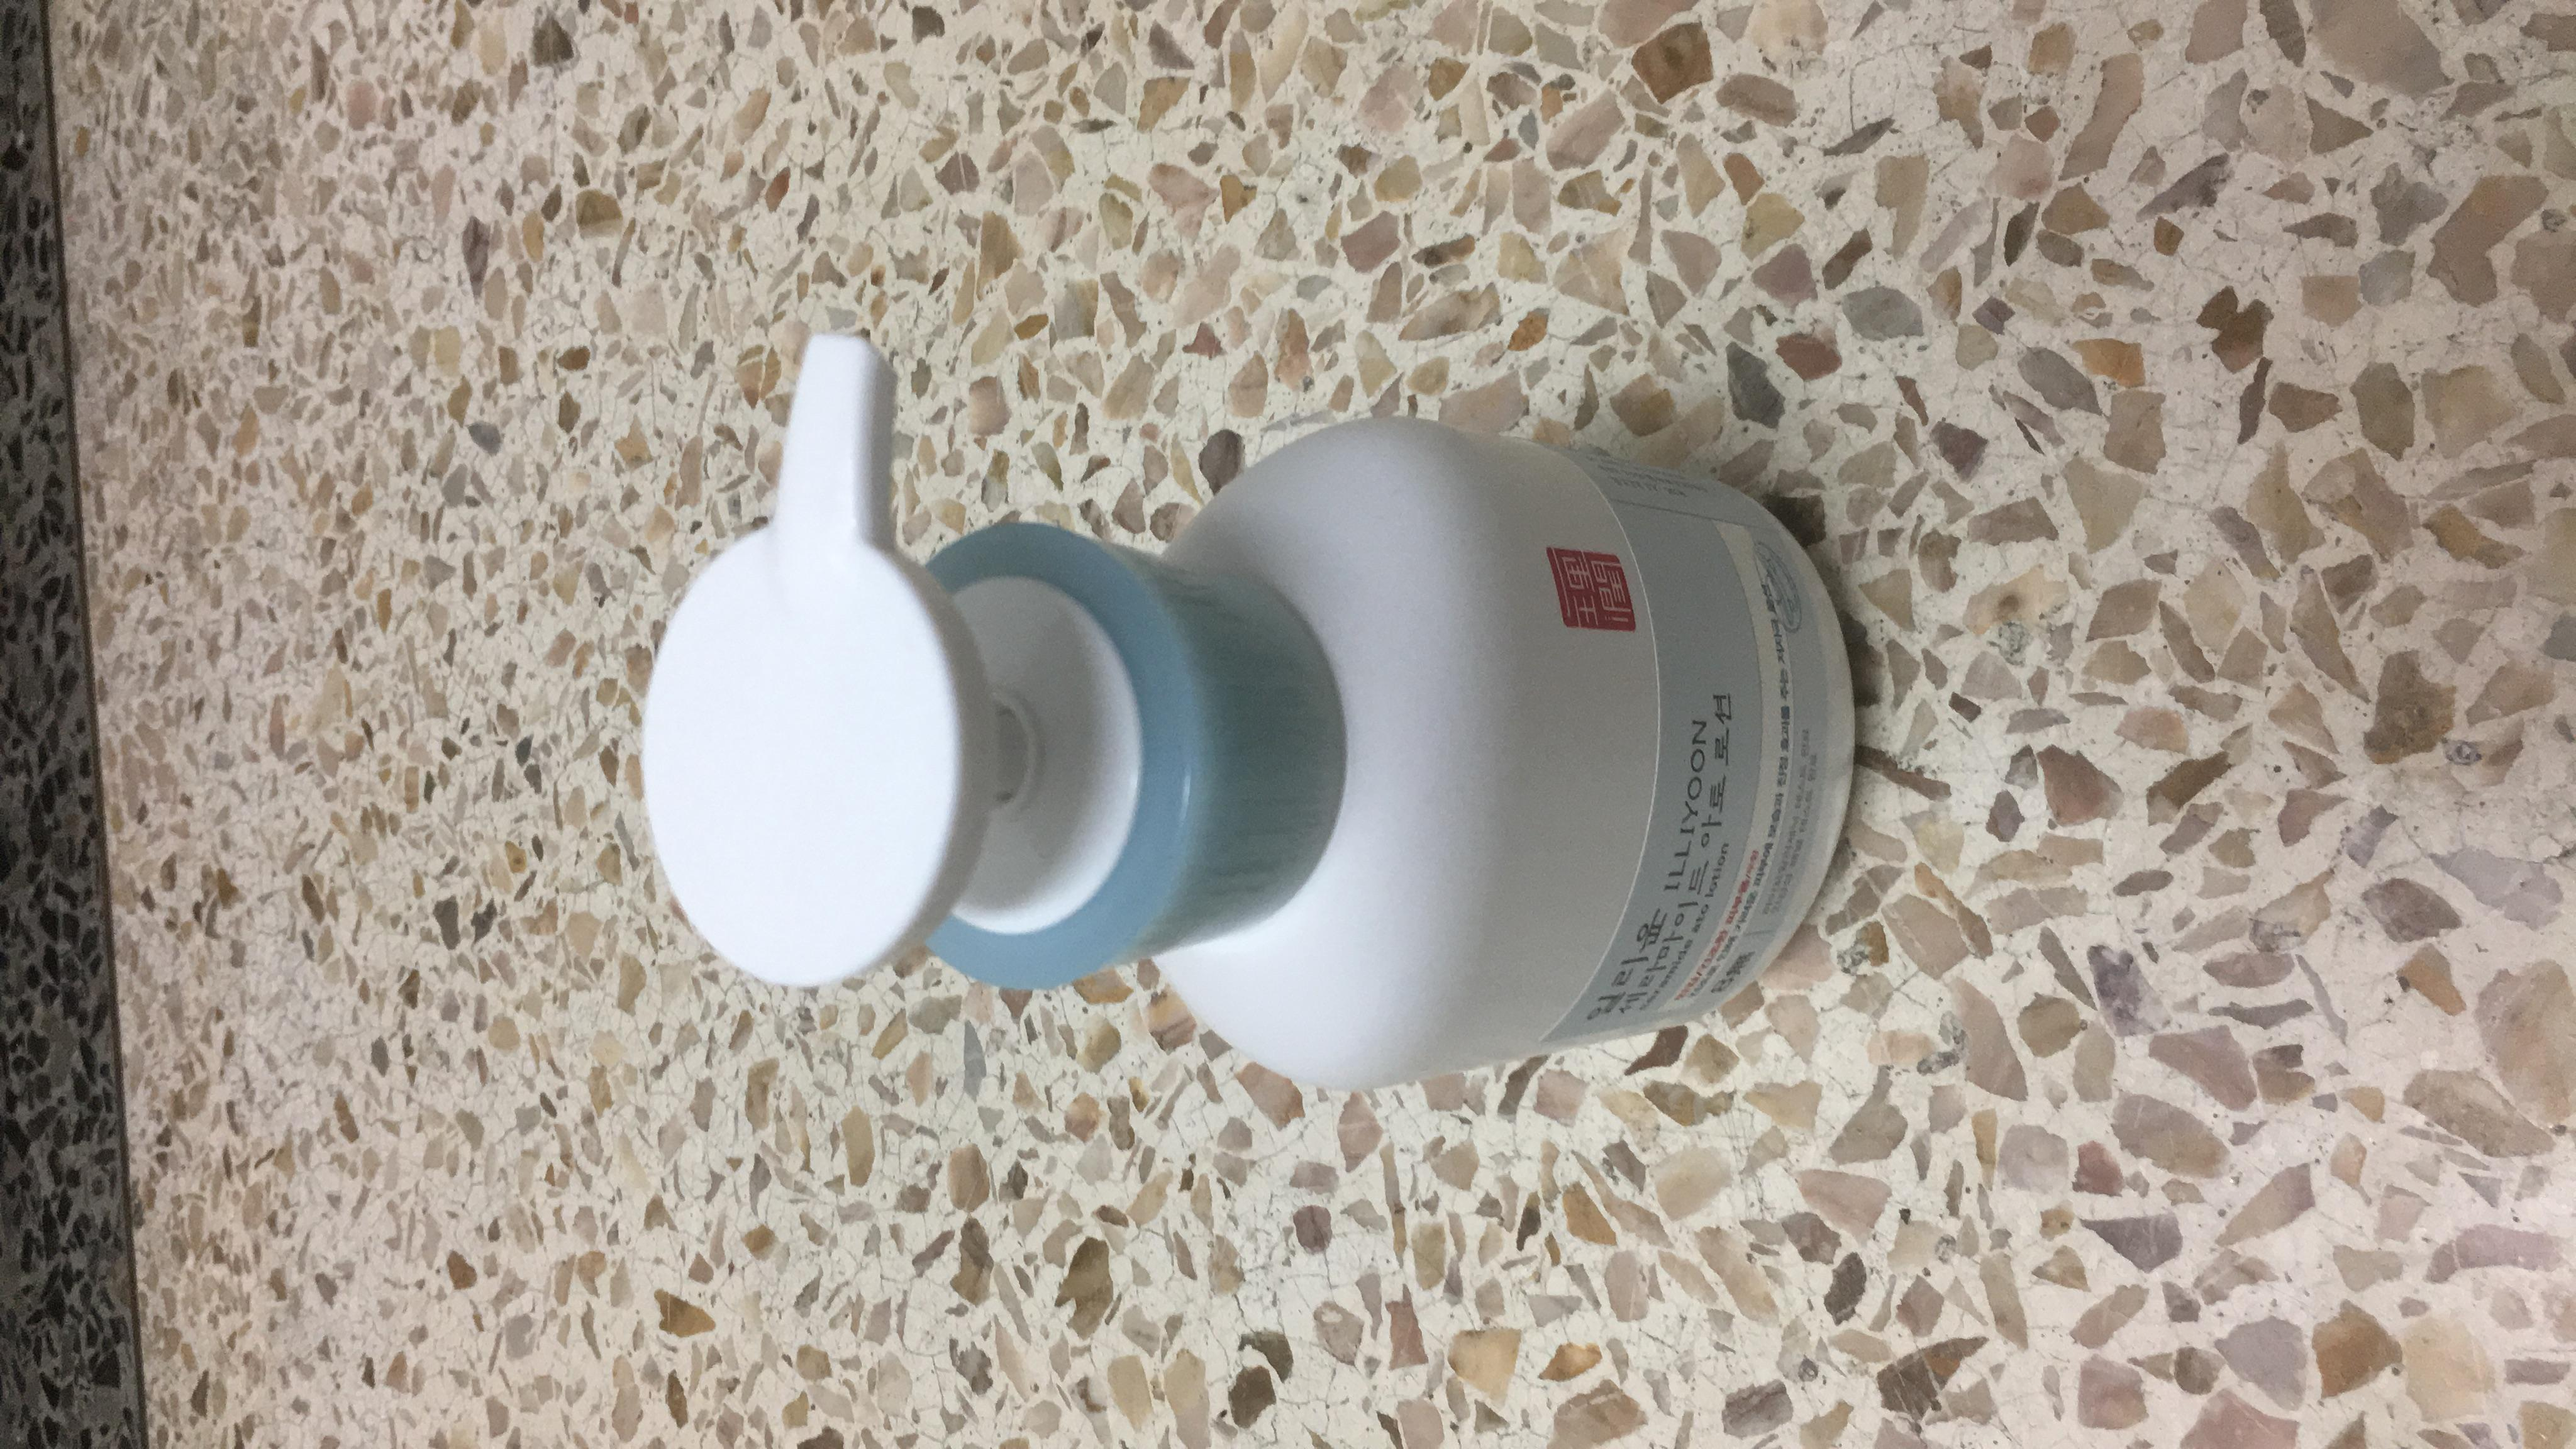bottle: (294, 318, 1817, 1044)
